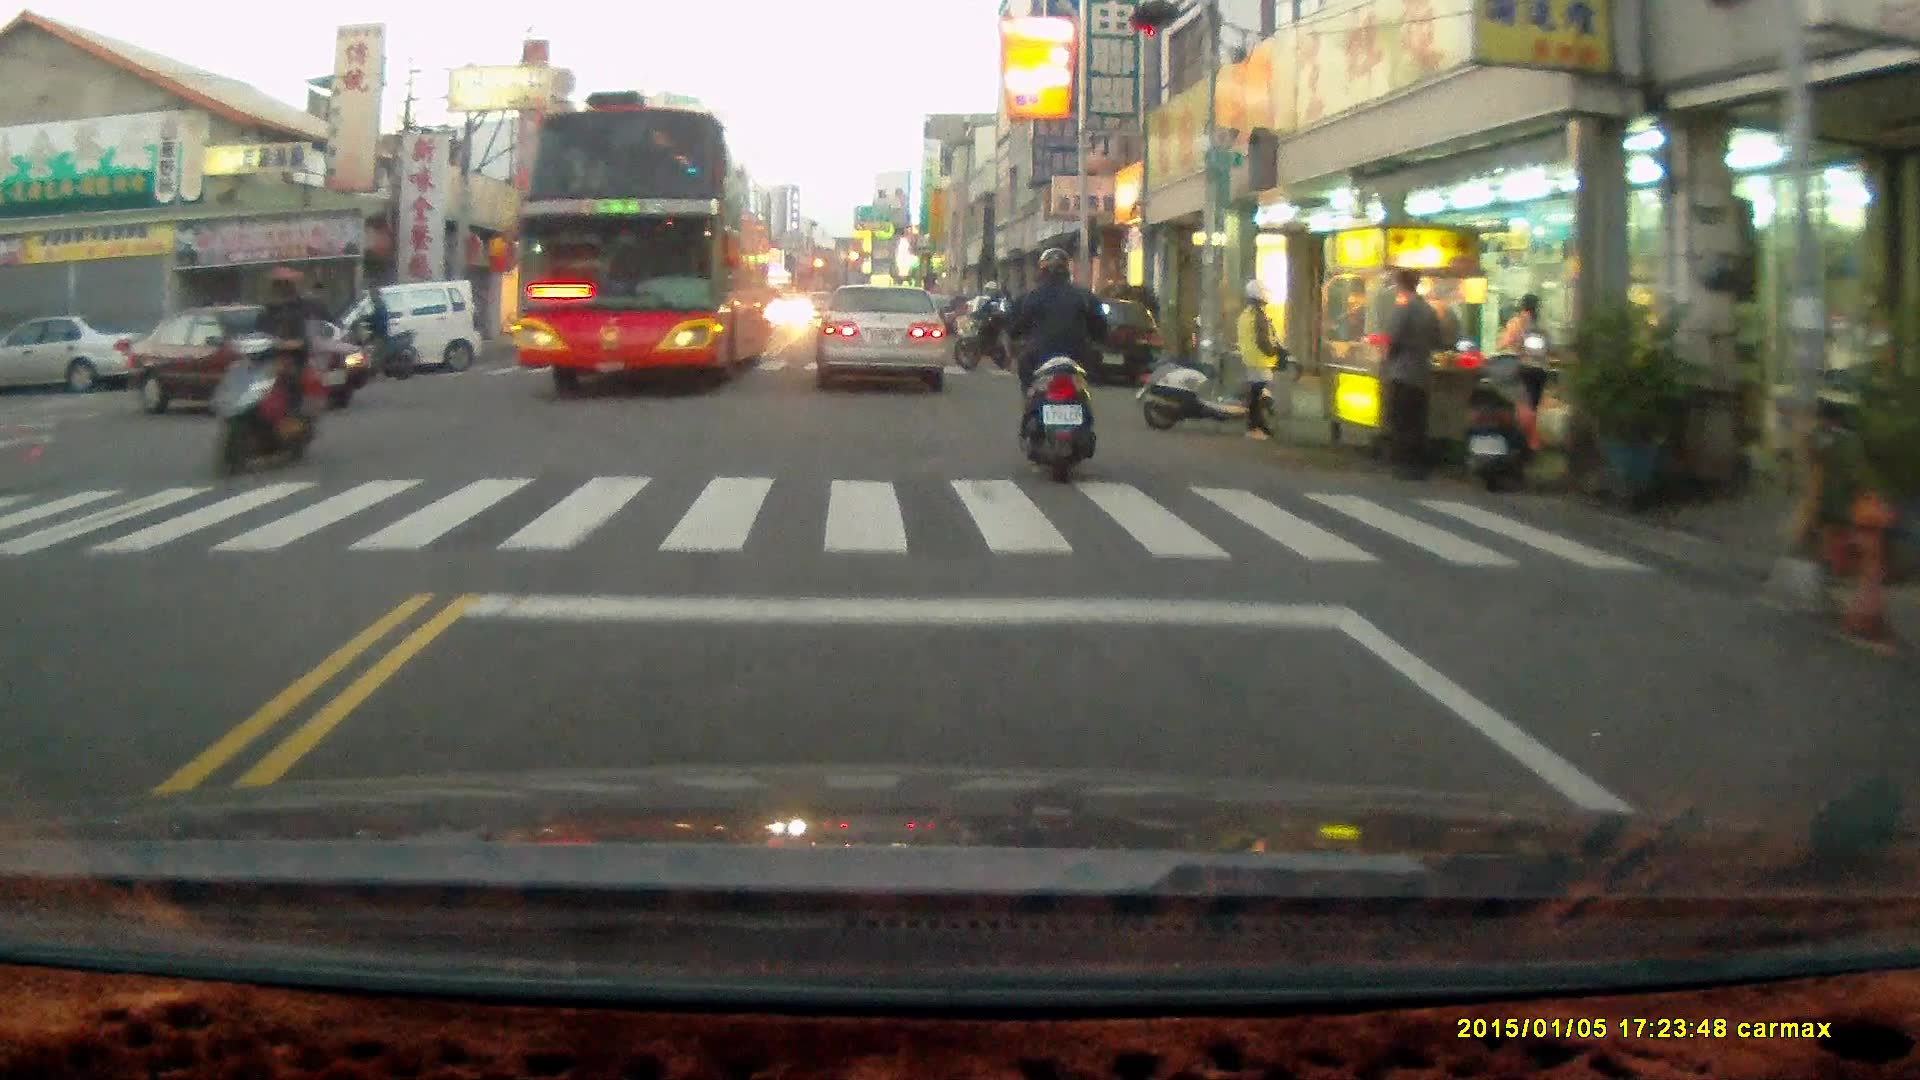pedestrian: (1381, 267, 1443, 476), (1237, 283, 1284, 448), (1500, 294, 1548, 458)
rider: (998, 242, 1112, 483), (209, 267, 322, 476), (277, 281, 365, 380), (340, 284, 416, 382), (949, 284, 1019, 377)
vehicle: (512, 103, 775, 396), (135, 306, 369, 415), (814, 281, 950, 393), (341, 276, 484, 376), (1, 312, 151, 399), (1048, 295, 1167, 391)
